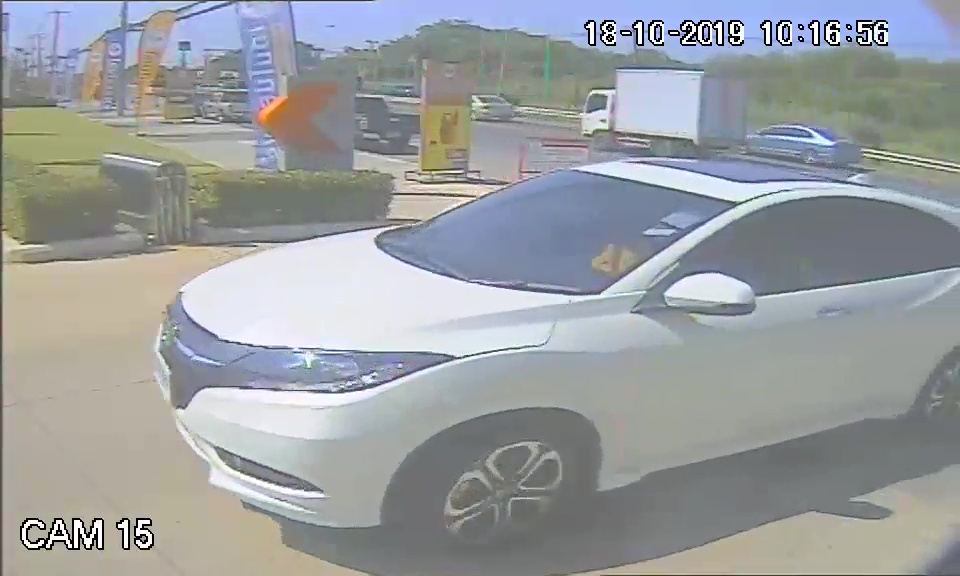sedan: (158, 154, 849, 548)
